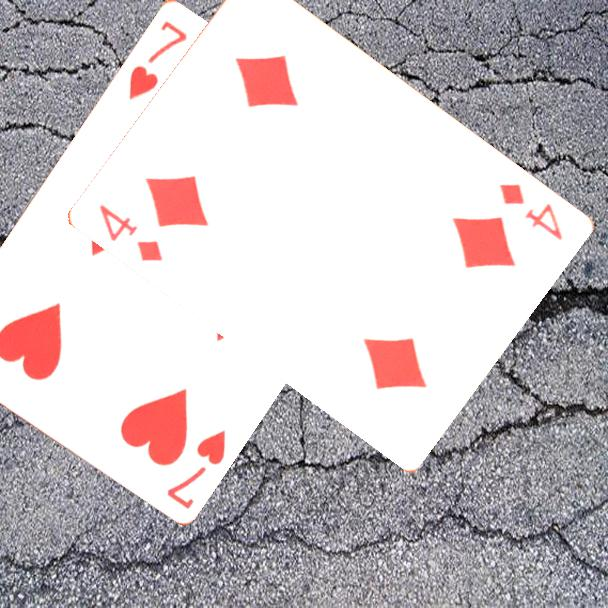d04: (494, 180, 565, 244), (95, 201, 165, 265)
h07: (124, 16, 190, 103), (163, 425, 229, 512)
